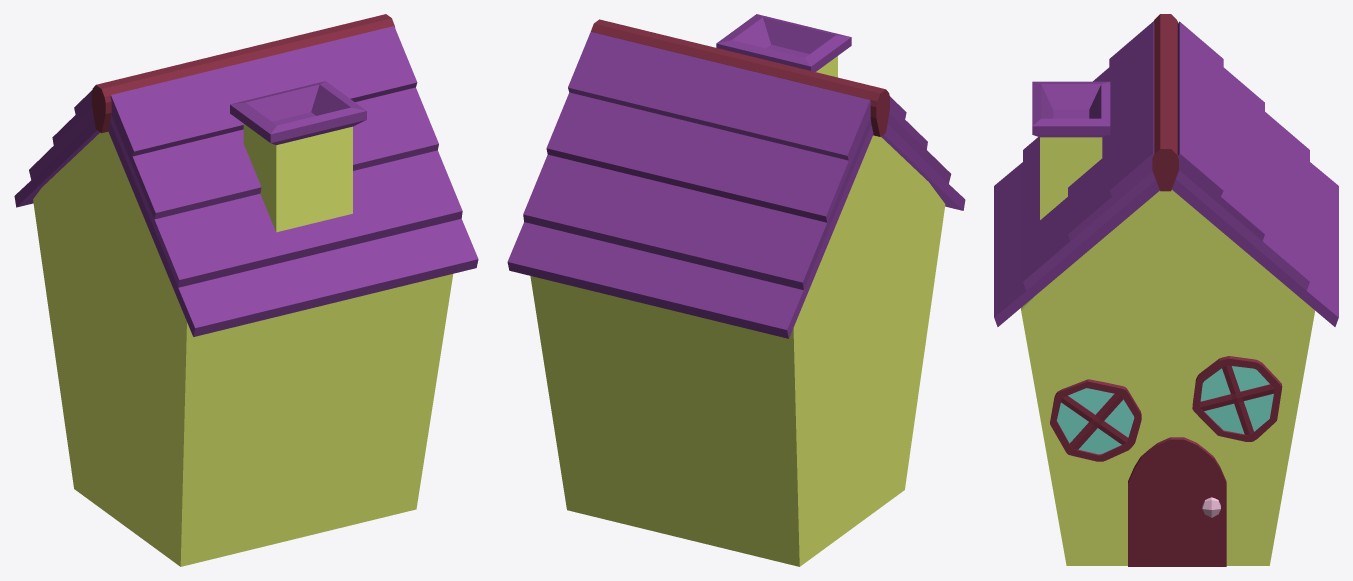
File: HouseC.fbx
3 views of the same model, side by side, from view 1: azimuth 30°, elevation 25°; view 2: azimuth 150°, elevation 25°; view 3: azimuth 270°, elevation 25° (orthographic). The views are drawn at different scales.
Parts seen in each view (by area): view 1: Cube.051, Cube.058, Cube.060, Cube.059; view 2: Cube.051, Cube.058, Cube.059, Cube.060; view 3: Cube.051, Cube.058, Cube.054, Cube.060, Cube.059, Cube.057, Cube.052, Cube.056, Cube.053.
Part boxes in pixels (x1,y1,x2,y2): Cube.051: (33, 131, 453, 566); Cube.058: (14, 26, 478, 336); Cube.060: (230, 81, 366, 232); Cube.059: (91, 14, 395, 133); Cube.051: (530, 135, 945, 566); Cube.058: (507, 32, 965, 338); Cube.059: (591, 19, 889, 136); Cube.060: (716, 14, 851, 77); Cube.051: (1021, 190, 1314, 565); Cube.058: (994, 21, 1338, 326); Cube.054: (1128, 437, 1226, 566); Cube.060: (1032, 81, 1110, 219); Cube.059: (1152, 14, 1178, 191); Cube.057: (1192, 356, 1282, 441); Cube.052: (1050, 379, 1141, 461); Cube.056: (1200, 366, 1273, 434); Cube.053: (1057, 388, 1134, 454).
Bounding box in the file's own units: 799 × 1181 × 861.
